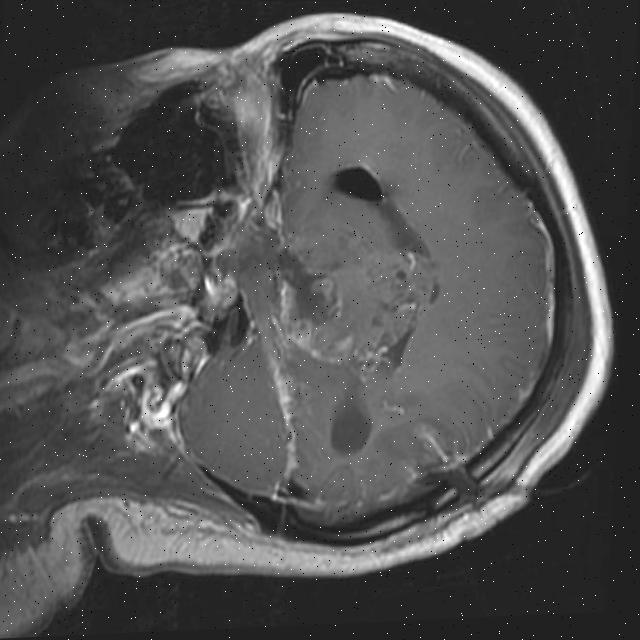Glioma: (277, 229, 440, 368)
